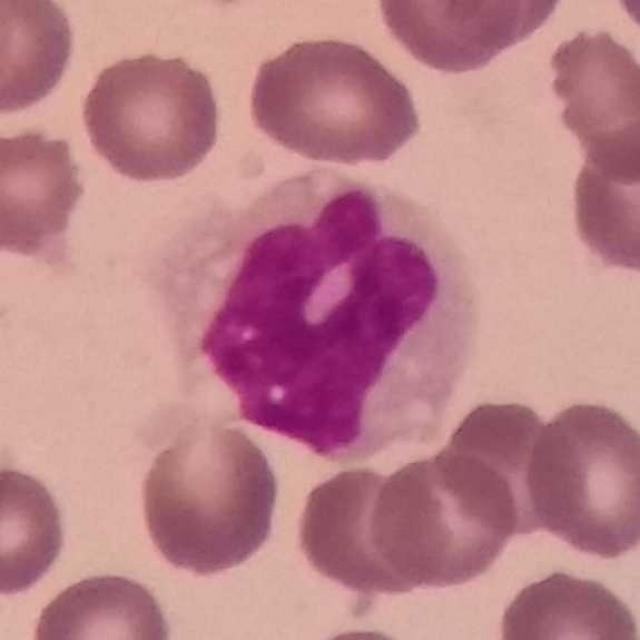Monocyte: (165, 166, 485, 464)
RBC: (132, 407, 285, 581), (244, 29, 425, 169), (363, 446, 523, 592), (291, 458, 444, 606), (76, 45, 226, 187), (518, 394, 640, 563), (436, 400, 564, 556), (541, 20, 640, 183), (0, 117, 91, 259), (372, 0, 528, 77), (564, 124, 640, 282), (25, 566, 177, 640), (494, 564, 640, 640), (0, 461, 72, 600), (0, 0, 80, 121), (434, 0, 571, 57), (286, 622, 435, 640), (0, 0, 20, 105), (604, 0, 640, 49)
